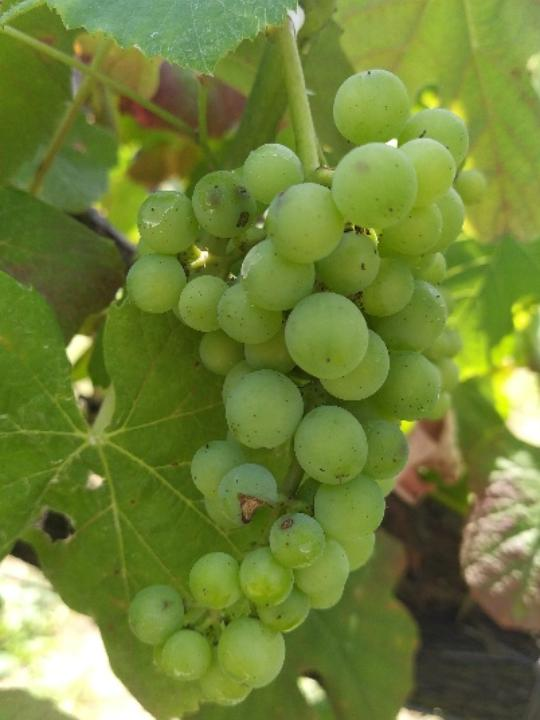grape: (125, 63, 493, 712)
